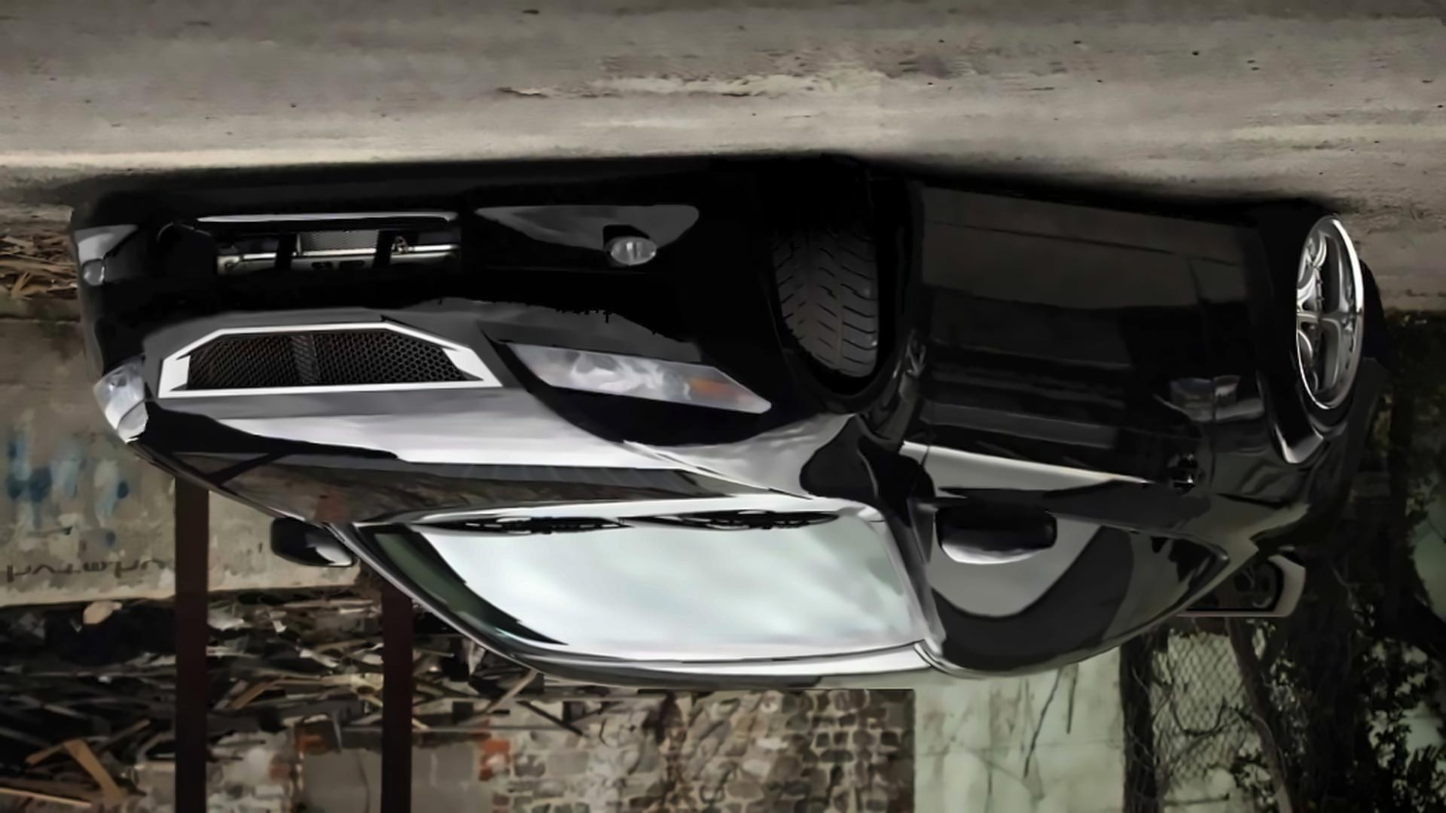Car hood: (140, 379, 804, 518)
Driver-s door - -F-R-: (921, 190, 1224, 682)
Fender - -F-R-: (760, 187, 940, 527)
Fender - -R-R-: (1230, 234, 1350, 554)
Front bumper: (51, 156, 898, 335)
Headlight - -L-: (70, 345, 179, 453)
Headlight - -R-: (467, 331, 779, 410)
Rear bumper: (1352, 262, 1426, 441)
Side bumper - -R-: (878, 158, 1285, 272)
Side mirror - -L-: (247, 503, 369, 576)
Side mirror - -R-: (915, 488, 1066, 580)
